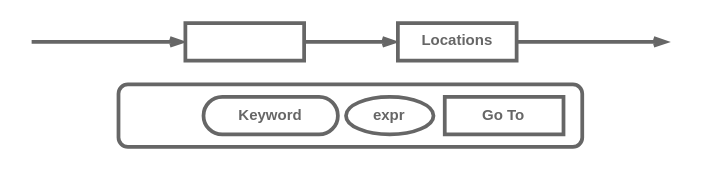
Image size: 703x170. Some labels were removed from this diagram. The shapes that lost their labels are listed below. From the top down, each one's box as (x1, y1, x2, y2) in pixels, then its label:
(183, 21, 305, 62): Application
(116, 82, 584, 148): Legend
